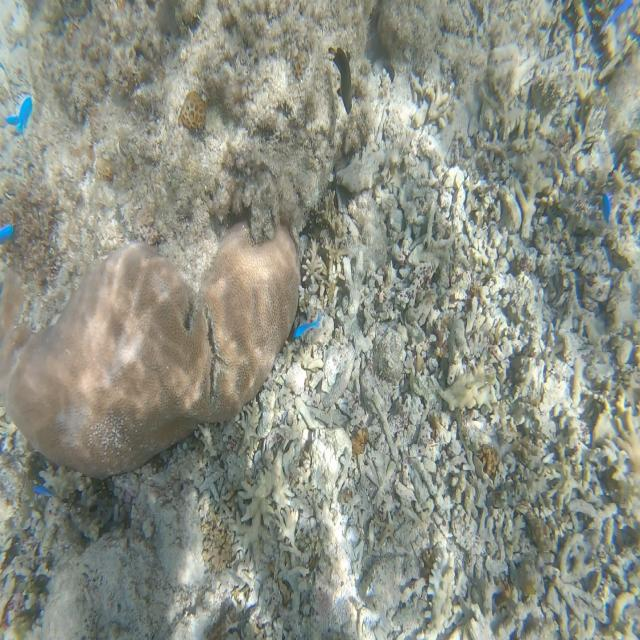kurohagi: (333, 48, 352, 115)
rurisuzumedai: (6, 96, 32, 132), (603, 0, 632, 30), (294, 312, 323, 338), (603, 193, 611, 222), (0, 226, 12, 244), (33, 485, 51, 495)
